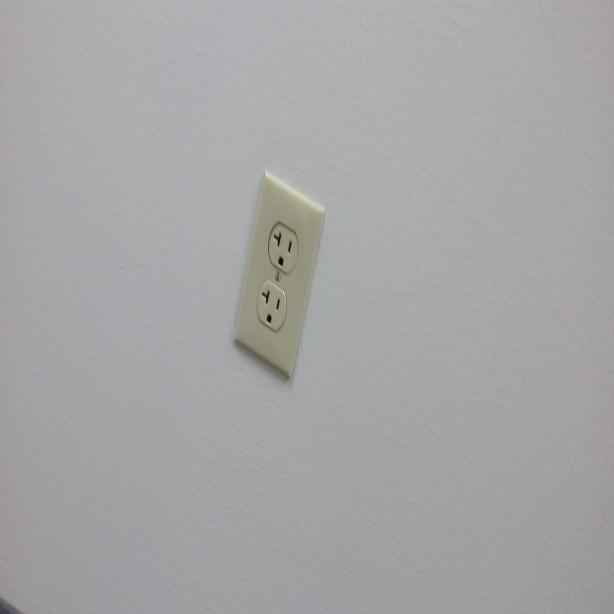typeb: (268, 224, 298, 273)
